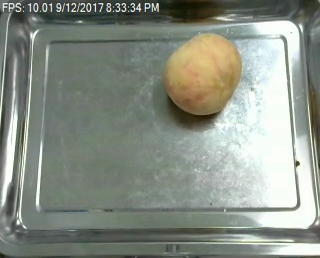Peach: (164, 31, 242, 116)
